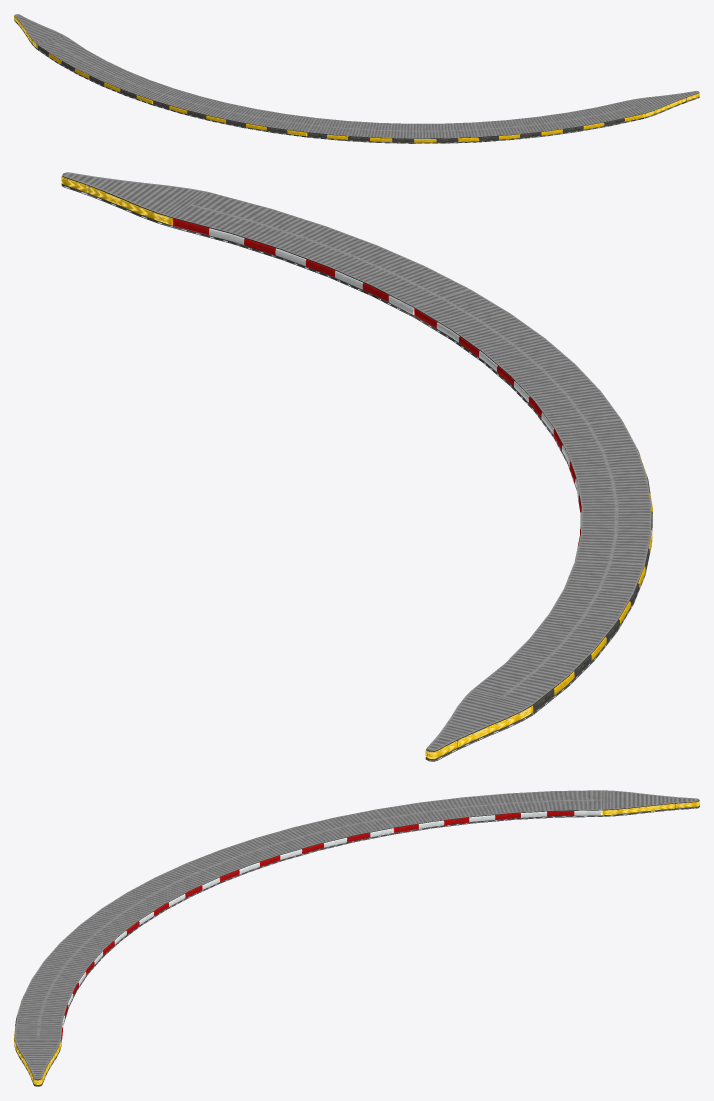
Rendered from obs_cor_barrier_lrg.fbx.
The picture shows the model from 3 angles, top to bottom: view 1: azimuth 30°, elevation 25°; view 2: azimuth 150°, elevation 25°; view 3: azimuth 270°, elevation 25°; orthographic projection. The views are drawn at different scales.
Parts seen in each view (by area): view 1: visual_barrier; view 2: visual_barrier; view 3: visual_barrier.
Part boxes in pixels (left/top/right/bottom): visual_barrier: left=14, top=14, right=699, bottom=143; visual_barrier: left=61, top=172, right=652, bottom=761; visual_barrier: left=14, top=790, right=699, bottom=1086.
Bounding box in the file's own units: 11665 × 128 × 11661.
